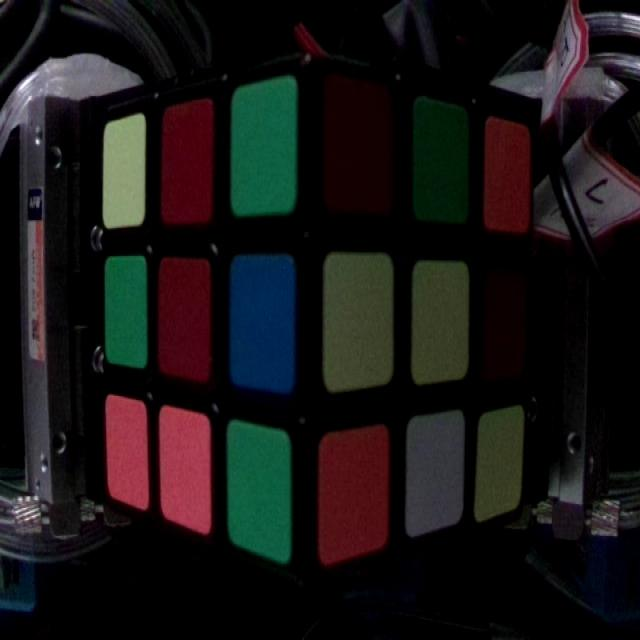b: (232, 259, 292, 392)
g: (230, 424, 292, 559), (233, 87, 295, 212), (416, 102, 472, 217), (106, 259, 146, 364)
o: (322, 436, 390, 554), (159, 411, 210, 533), (488, 120, 528, 221), (108, 400, 144, 509)
r: (325, 80, 384, 206), (162, 107, 210, 225), (159, 260, 205, 379), (488, 266, 524, 366)
w: (409, 419, 464, 529)
y: (327, 256, 394, 388), (414, 264, 464, 376), (479, 414, 523, 519), (103, 119, 145, 225)
